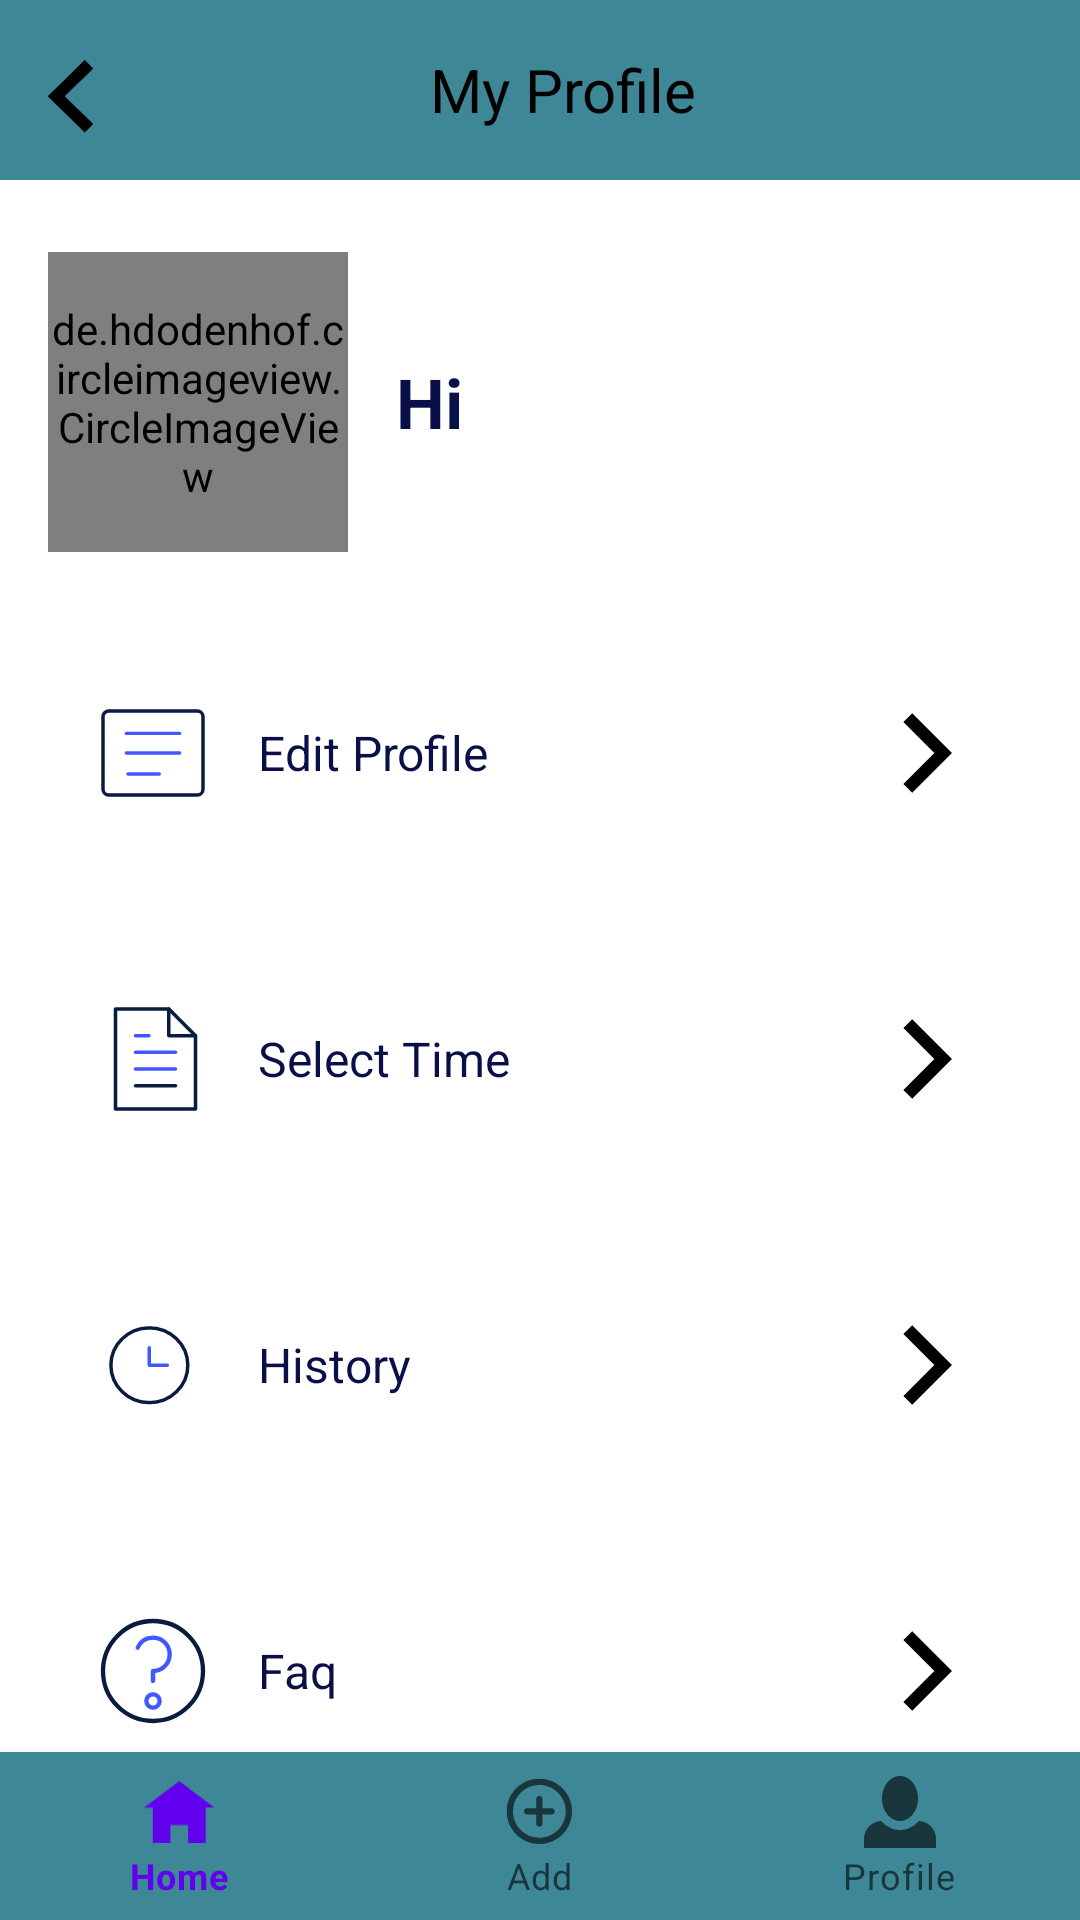

Where icons sit on this 1080x1920 app screen, as (x1, y1, x2, y2):
back: (48, 60, 93, 133)
